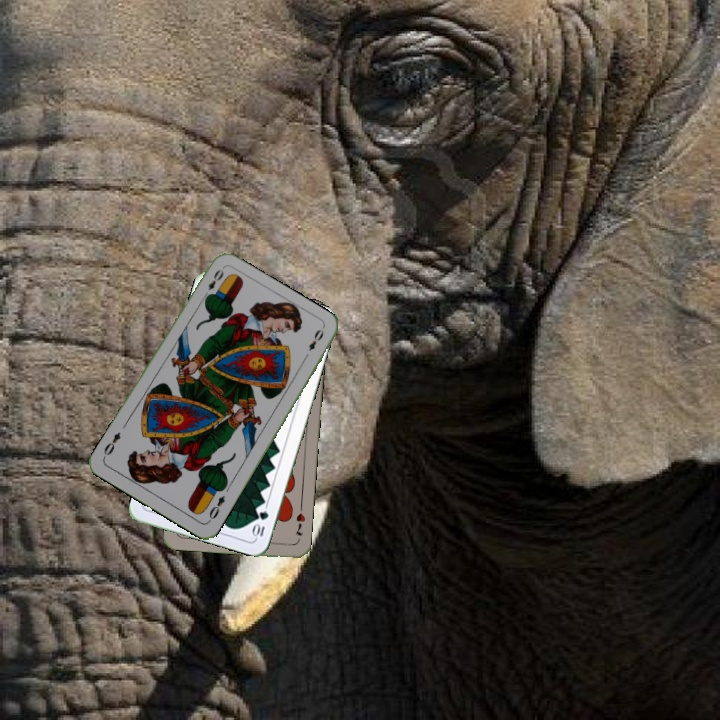EO: (199, 265, 226, 301), (204, 491, 228, 525)
G10: (249, 507, 271, 540)
H7: (291, 509, 308, 538)
